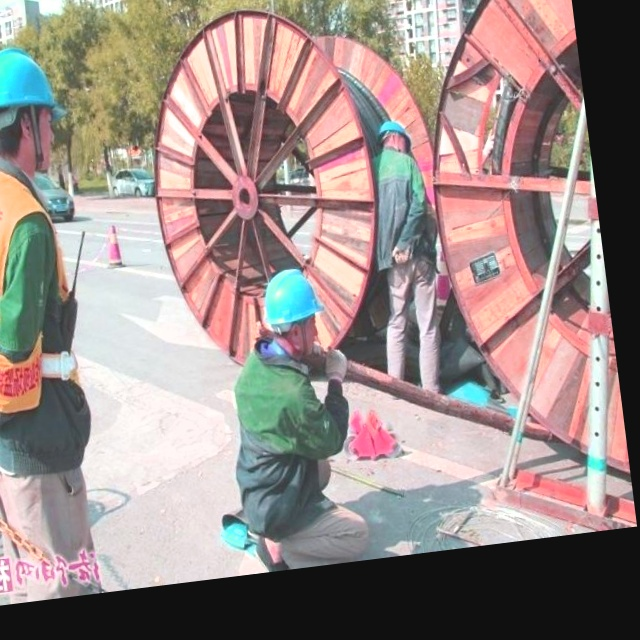Con_Casco: (0, 45, 74, 184), (260, 264, 330, 359)
